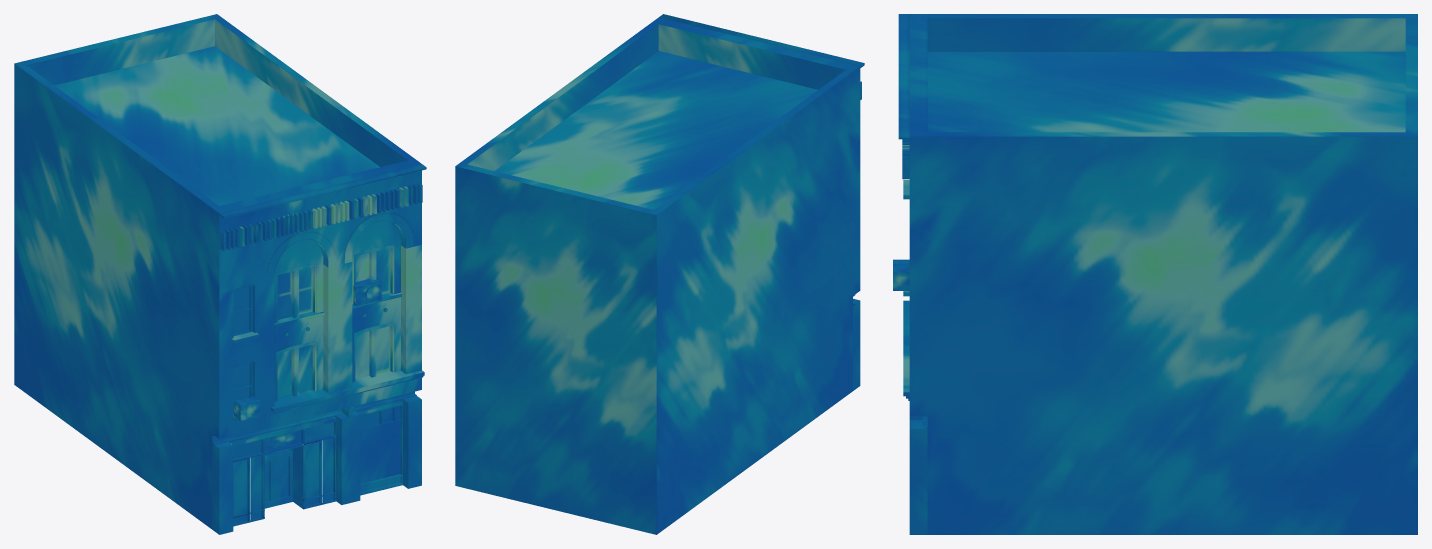
The picture shows the model from 3 angles, left to right: view 1: azimuth 30°, elevation 25°; view 2: azimuth 150°, elevation 25°; view 3: azimuth 270°, elevation 25°; orthographic projection. The views are drawn at different scales.
Parts seen in each view (by area): view 1: %h3%_Baked; view 2: %h3%_Baked; view 3: %h3%_Baked.
Boxes of the visible parts, left/top/right/bottom form: %h3%_Baked: left=14, top=14, right=426, bottom=534; %h3%_Baked: left=455, top=14, right=864, bottom=534; %h3%_Baked: left=893, top=14, right=1417, bottom=534.
Bounding box in the file's own units: 23.67 × 35.88 × 42.83.
Materials: 1 (1 with a texture image).
